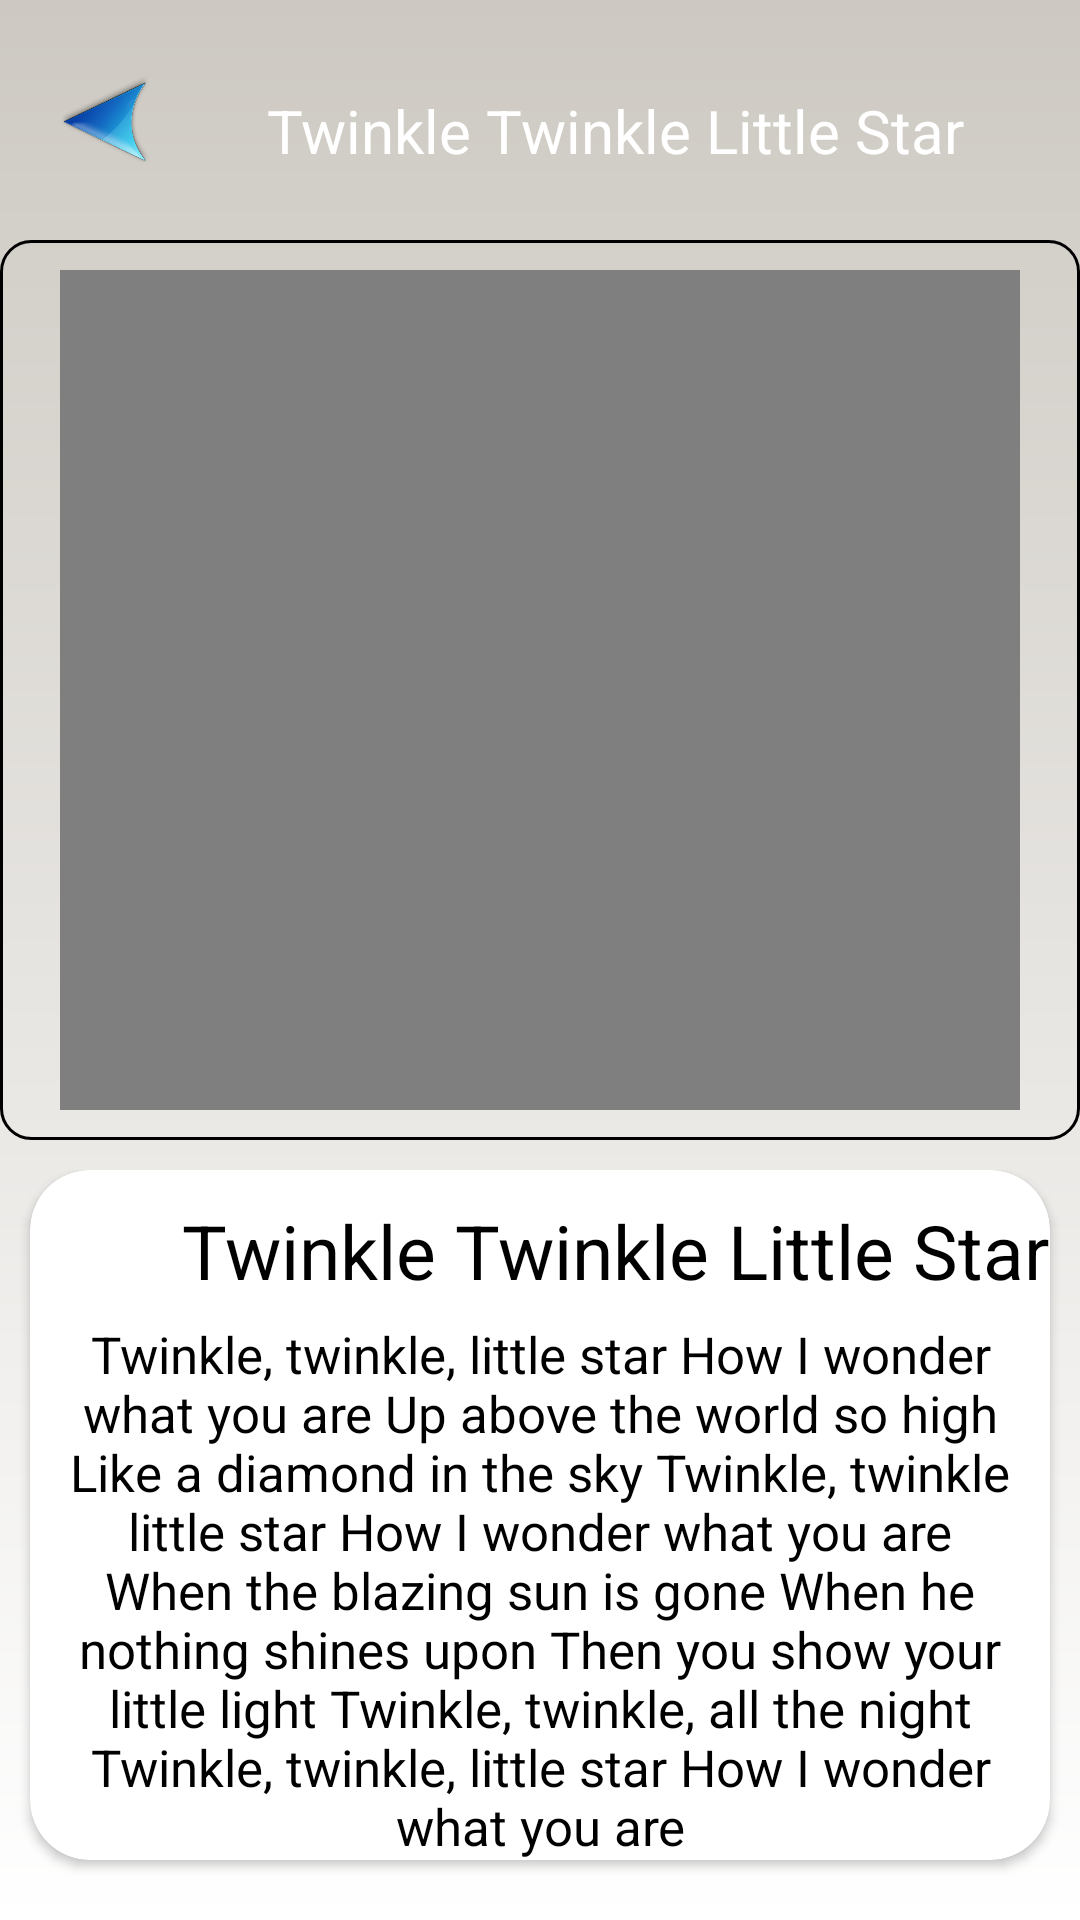

Icon click points for this 1080px×1920px phone screenshot, format (x=x, y=y):
backward: (x=105, y=121)
